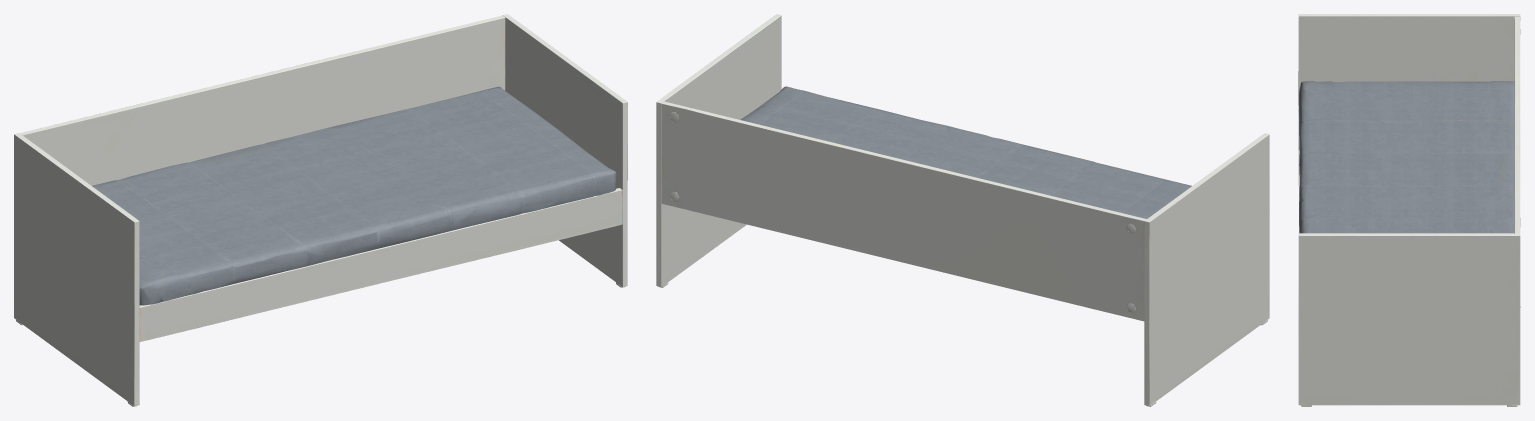
The picture shows the model from 3 angles, left to right: view 1: azimuth 30°, elevation 25°; view 2: azimuth 150°, elevation 25°; view 3: azimuth 270°, elevation 25°; orthographic projection. The views are drawn at different scales.
Visible parts, largest first — view 1: base_bedsize; view 2: base_bedsize; view 3: base_bedsize.
Boxes of the visible parts, x1=… form: base_bedsize: x1=14, y1=14, x2=627, y2=406; base_bedsize: x1=656, y1=14, x2=1269, y2=406; base_bedsize: x1=1298, y1=14, x2=1520, y2=406.
Size of the model in its own units: 2.08 by 0.7501 by 0.88.
2 materials, 2 textured.
